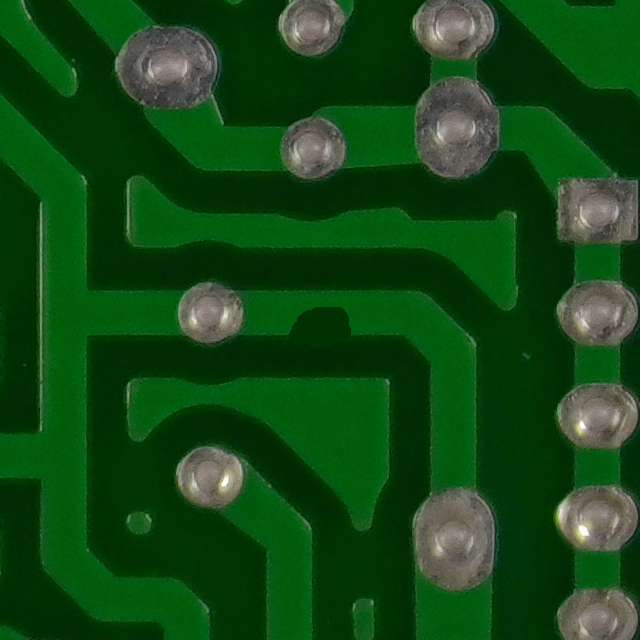mouse_bite: (275, 288, 366, 353)
